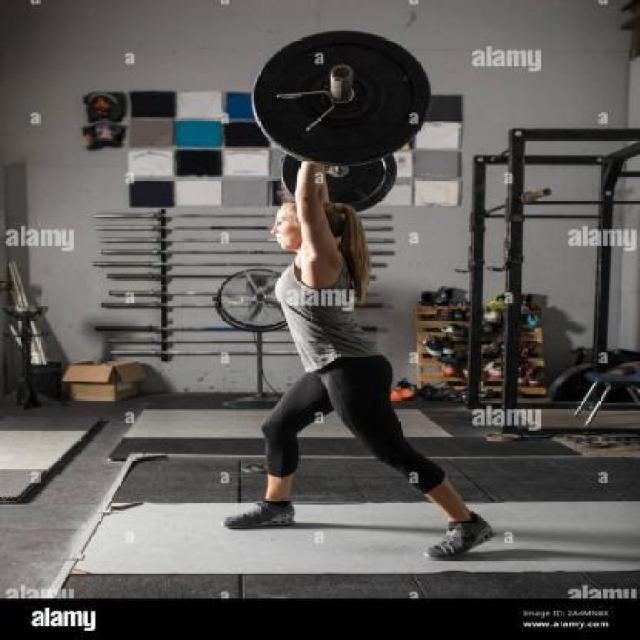Barbell: (326, 56, 363, 86)
